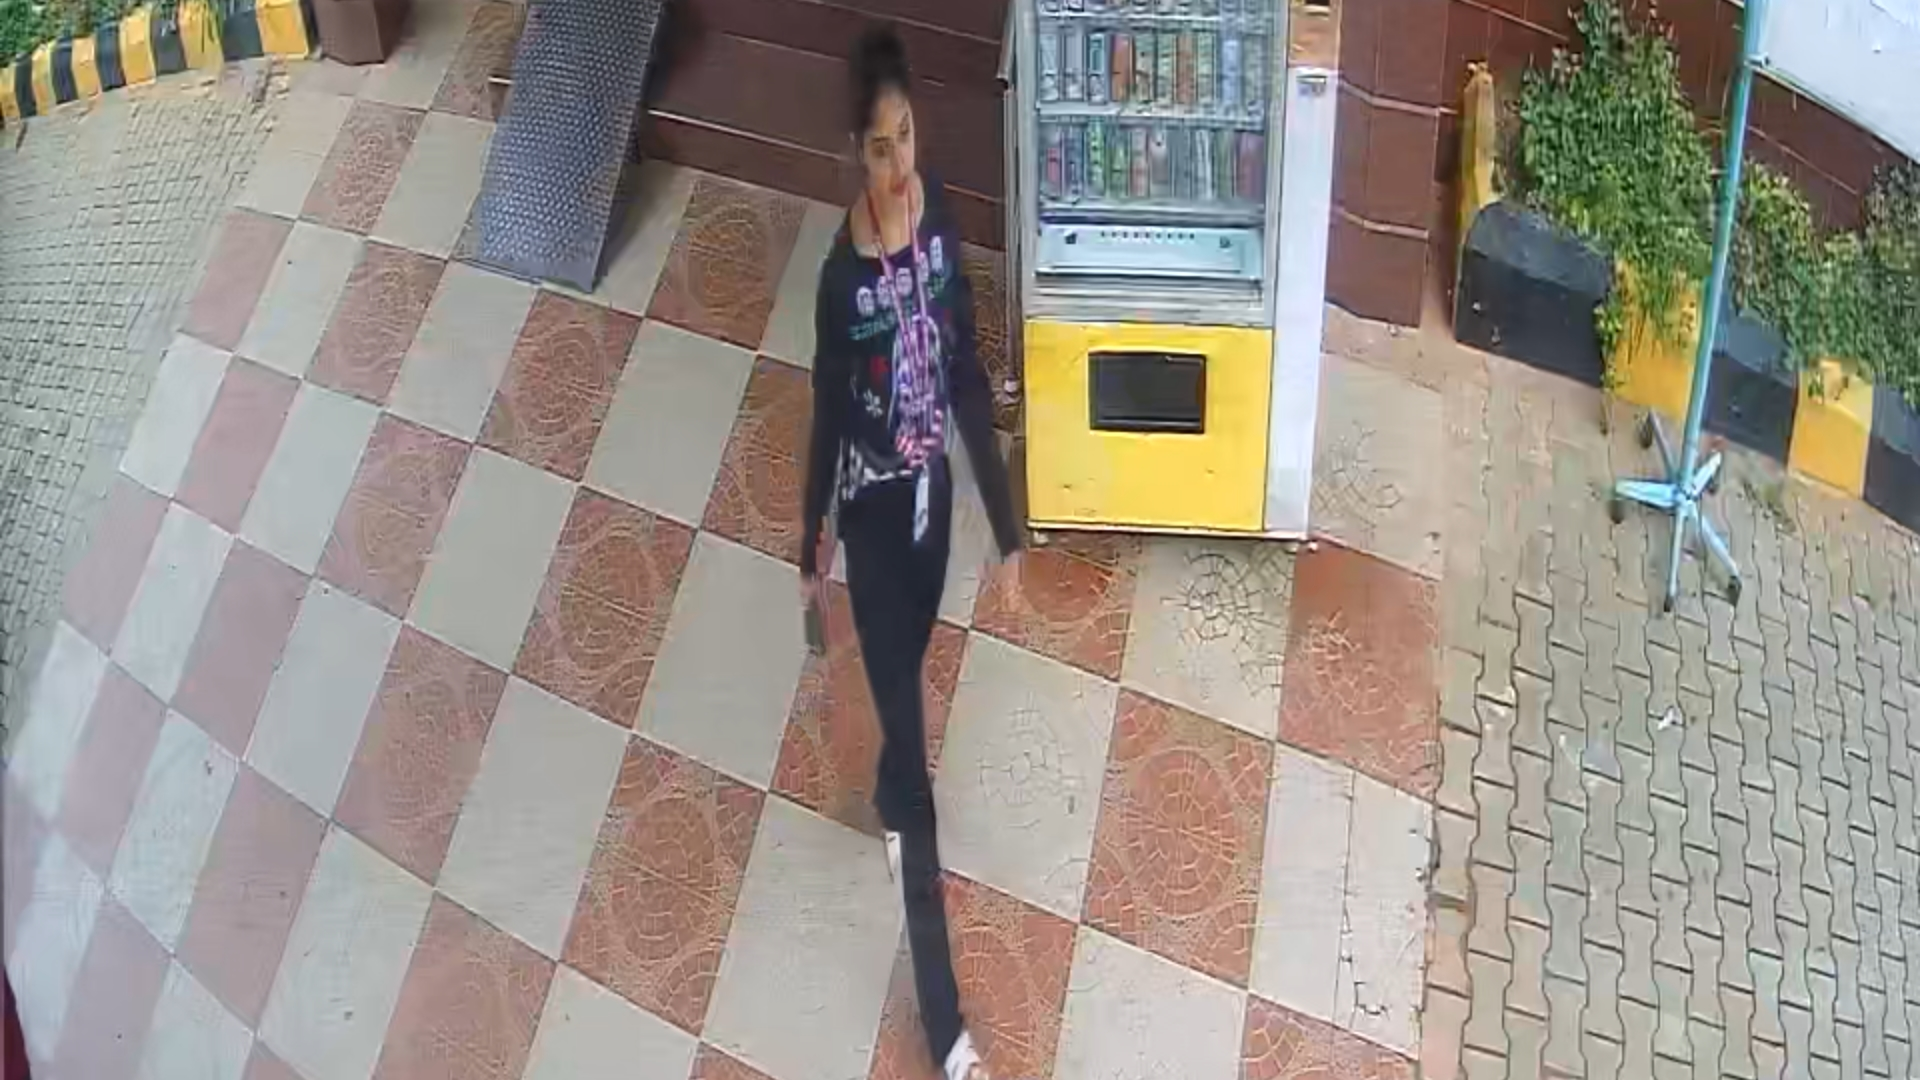not intruder: (800, 4, 1026, 1063)
